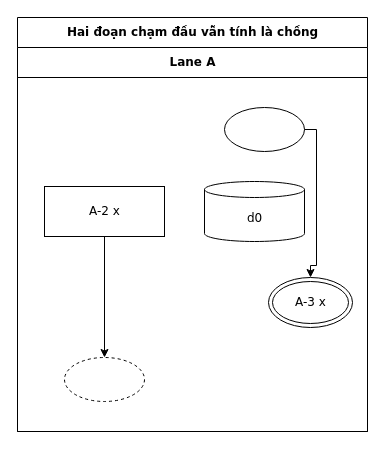
Some shapes in this 385 by 449 pixel diagram are drawn without their labels. The shapes that lost their labels are listed below. From the top down, each one's box as (x1, y1, x2, y2) in pixels, then its label:
(224, 106, 304, 152): A-1 x
(64, 356, 144, 402): A-4 x
